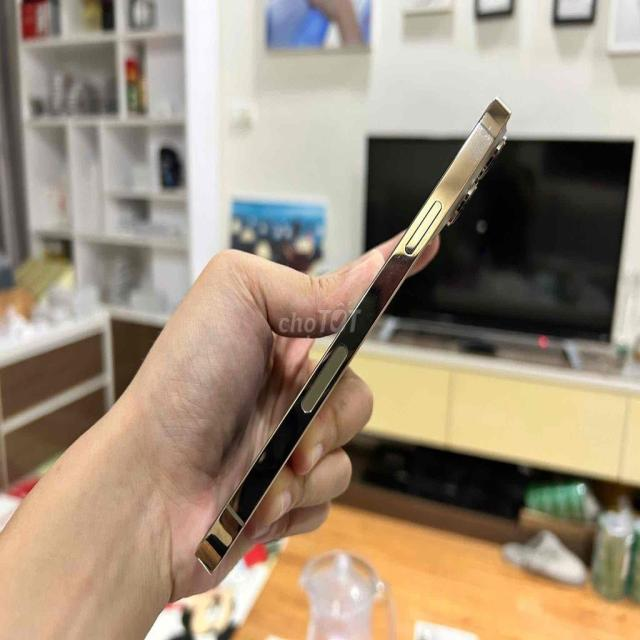gen_12_13: (190, 100, 530, 598)
